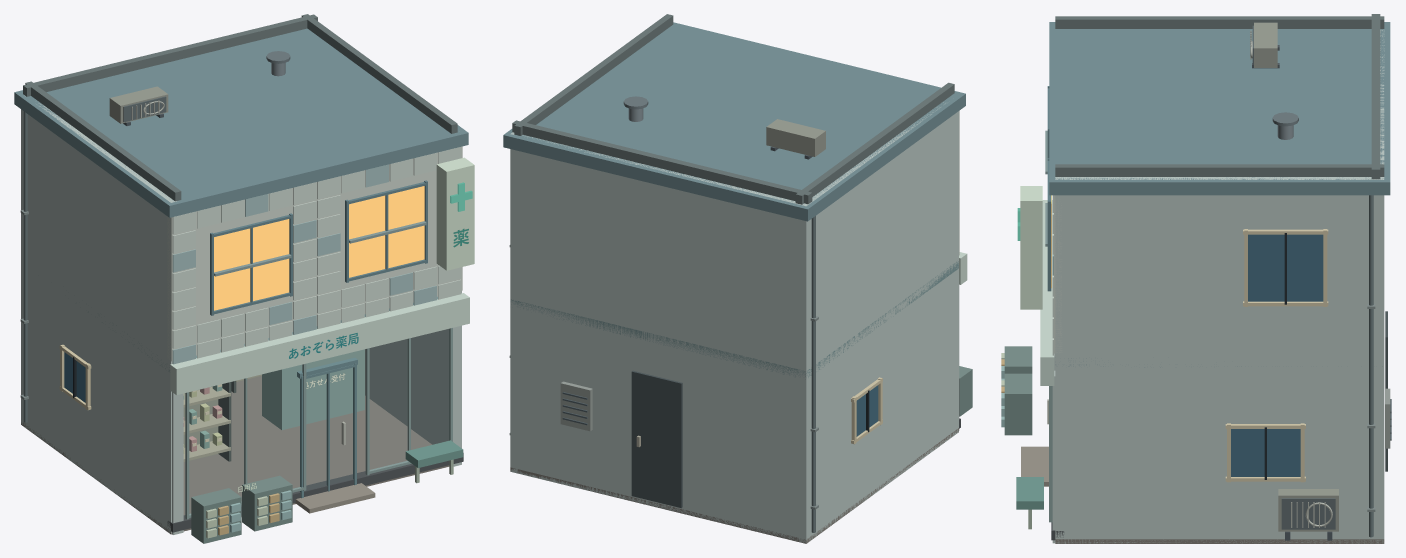
The model's file is pharmacy.glb.
3 renders of one model, left to right at view 1: azimuth 30°, elevation 25°; view 2: azimuth 150°, elevation 25°; view 3: azimuth 270°, elevation 25°, orthographic. The views are drawn at different scales.
Parts seen in each view (by area): view 1: 青空药局, 商品棚, 室外空调机; view 2: 青空药局, 室外空调机; view 3: 青空药局, 室外空调机 (×2).
Boxes of the visible parts, box(x1,y1,x2,y2) form: 青空药局: box(14, 14, 474, 543); 商品棚: box(183, 382, 231, 462); 室外空调机: box(109, 86, 168, 125); 青空药局: box(503, 14, 972, 543); 室外空调机: box(766, 119, 825, 159); 青空药局: box(1001, 14, 1391, 543); 室外空调机 (×2): box(1250, 22, 1338, 540).
Bounding box in the file's own units: 5.98 × 6.49 × 5.93.
Materials: 65 (4 with a texture image).
